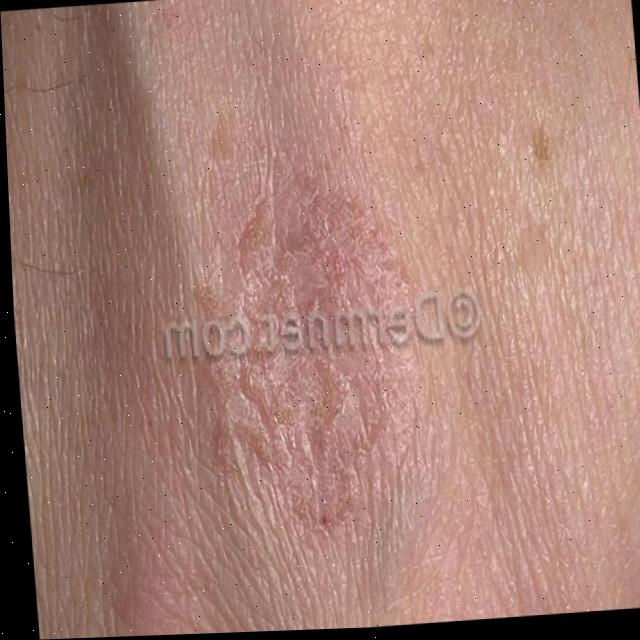Eczema: (187, 154, 430, 541)
